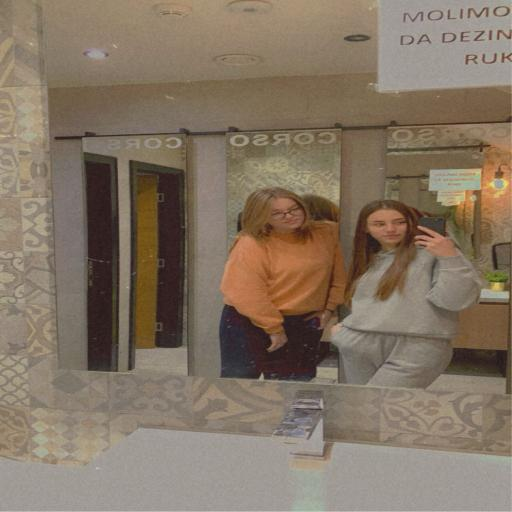masa: (370, 206, 410, 245)
